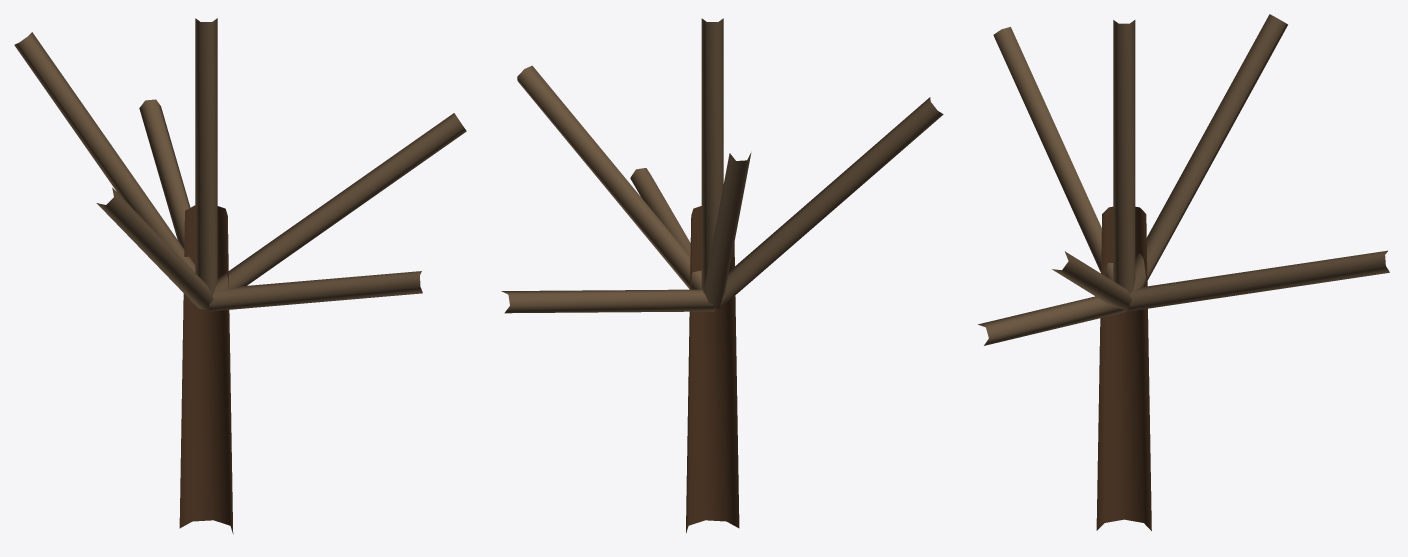
Rendered from leafless.gltf.
3 views of the same model, side by side, from view 1: azimuth 30°, elevation 25°; view 2: azimuth 150°, elevation 25°; view 3: azimuth 270°, elevation 25° (orthographic).
Visible parts, largest first — view 1: leafless; view 2: leafless; view 3: leafless.
Part boxes in pixels (box(x1,y1,x2,y2)): leafless: box(14, 18, 466, 534); leafless: box(501, 18, 943, 533); leafless: box(978, 14, 1389, 530).
Size of the model in its own units: 0.8087 by 1 by 0.7465.
